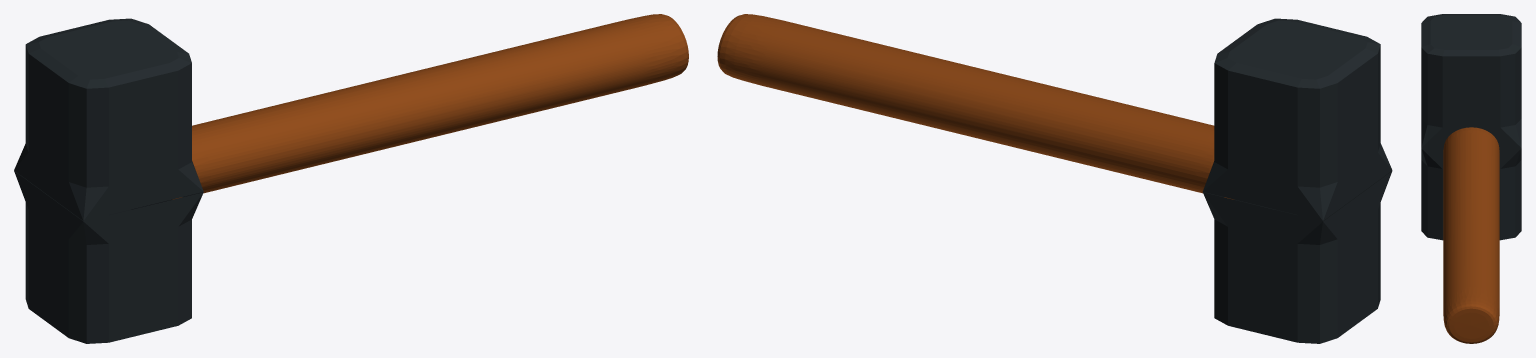
Rendered from Hammer.fbx.
3 views of the same model, side by side, from view 1: azimuth 30°, elevation 25°; view 2: azimuth 150°, elevation 25°; view 3: azimuth 270°, elevation 25° (orthographic). The views are drawn at different scales.
Parts seen in each view (by area): view 1: Cube, Cylinder; view 2: Cube, Cylinder; view 3: Cube, Cylinder.
Part boxes in pixels (box(x1,y1,x2,y2)): Cube: box(14, 18, 203, 343); Cylinder: box(172, 14, 688, 199); Cube: box(1202, 18, 1392, 343); Cylinder: box(717, 14, 1233, 199); Cube: box(1421, 14, 1521, 240); Cylinder: box(1443, 127, 1499, 343).
Size of the model in its own units: 1039 by 417 by 200.
